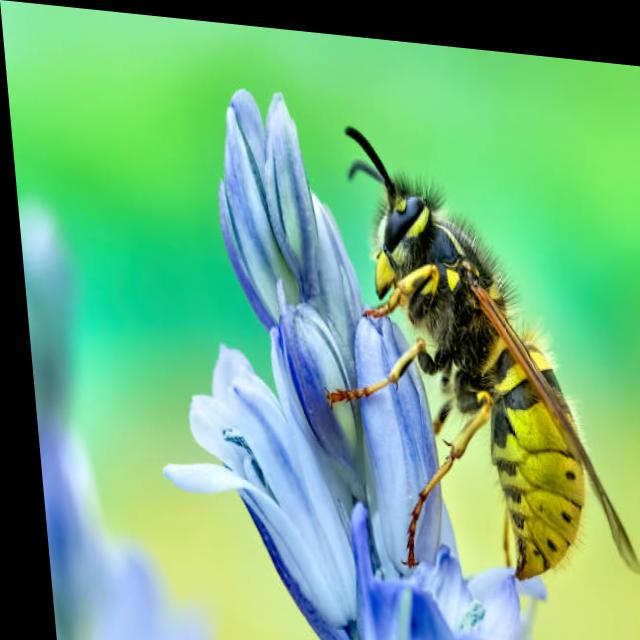Vespa Crabro: (298, 85, 640, 595)
